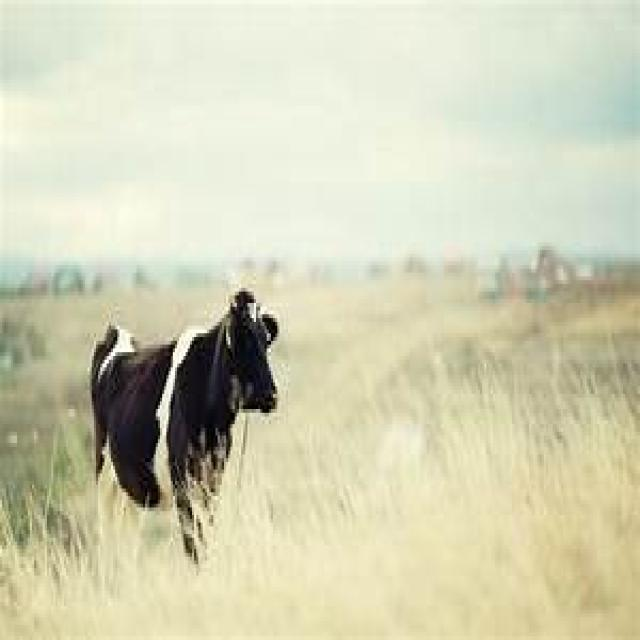cow: (90, 292, 279, 568)
